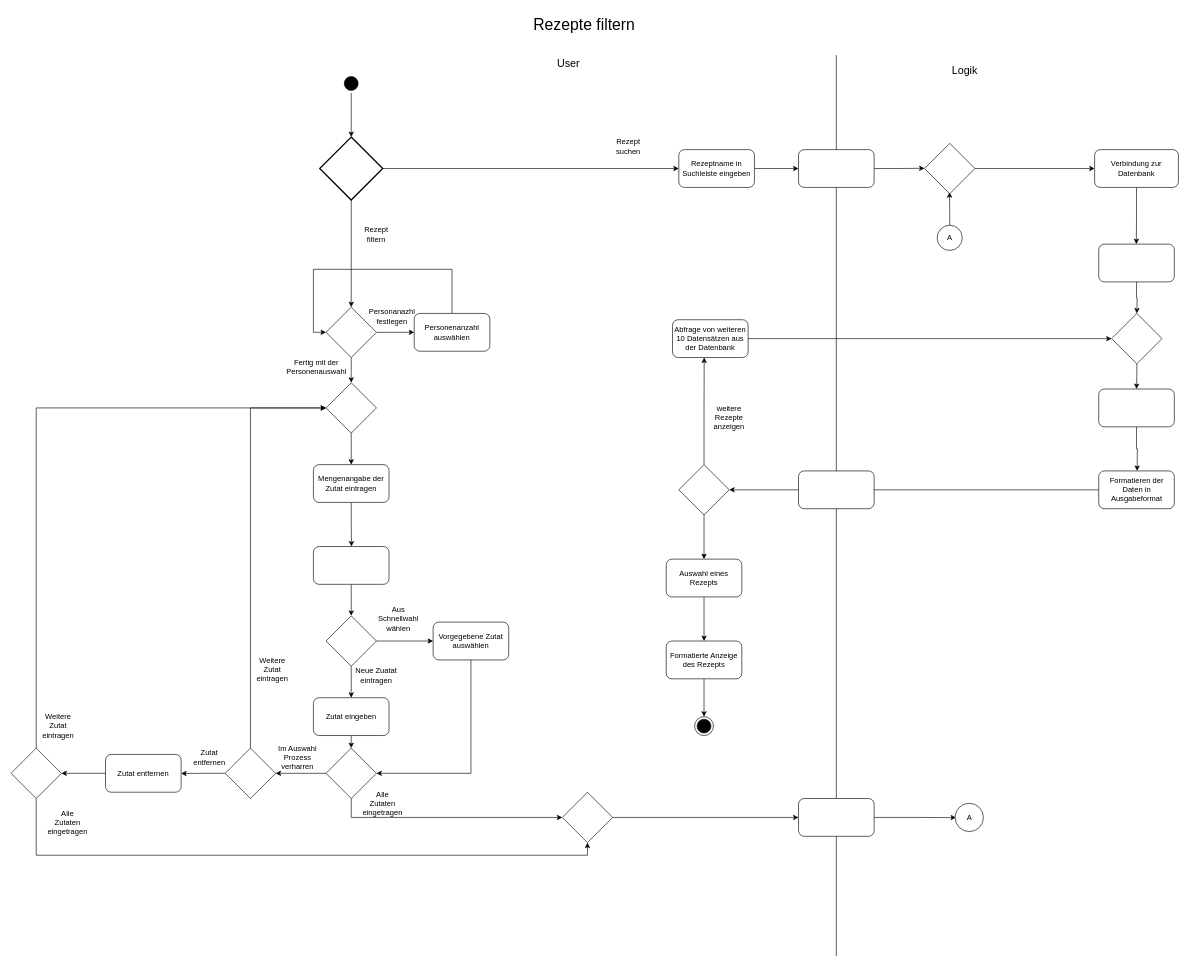
This 1189x968 diagram has some shape labels left out. The shapes that lost their labels are listed below. From the top down, each one's centre as x and y in pixels, then its label:
At [836,168]: "Suchen".
At [1136,262]: "Abfrage von 10 Datensätzen aus der Datenbank".
At [1136,407]: "Filtern der Daten nach Sucheingabe".
At [836,489]: "Anzeigen der geladenen Rezepte auf der Webseite".
At [351,565]: "Einheit auswählen".
At [836,817]: "Filtern".
